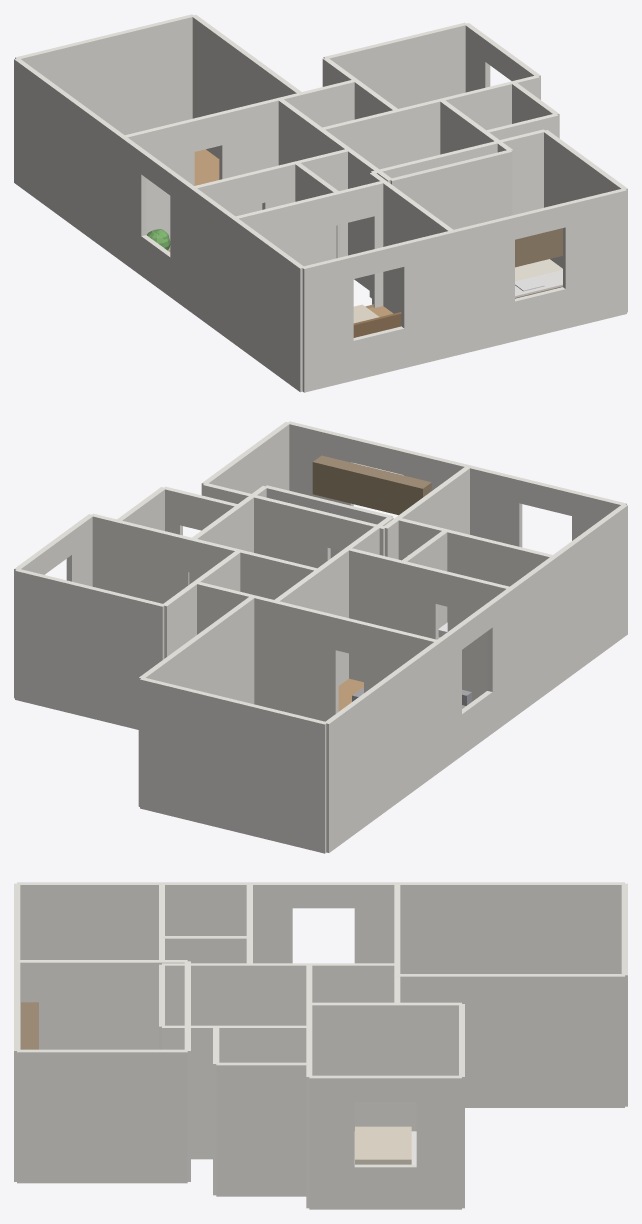
File: test-nowin.glb
3 views of the same model, one above another, from view 1: azimuth 30°, elevation 25°; view 2: azimuth 150°, elevation 25°; view 3: azimuth 270°, elevation 25° (orthographic). The views are drawn at different scales.
Visible parts, largest first — view 1: Wall_kitchen_front, Wall_bedroom_1_front, Wall_balcony_left, Wall_balcony_back, Wall_bedroom_1_left, Wall_living_room_left, Wall_bedroom_2_back, Wall_bedroom_1_back, Wall_balcony_front, Wall_stairs_front, Wall_balcony_right, Wall_bathroom_1_left (+26 smaller); view 2: Wall_balcony_back, Wall_bedroom_2_back, Wall_balcony_left, Wall_living_room_back, Wall_bedroom_1_left, Wall_balcony_front, Wall_living_room_left, Wall_bedroom_2_front, Wall_living_room_front, Wall_balcony_right, Wall_bedroom_1_front, Wall_kitchen_back (+22 smaller); view 3: Wall_balcony_right, Wall_kitchen_right, Wall_balcony_left, Wall_bedroom_2_right, Wall_bathroom_2_right, Wall_kitchen_left, Wall_bedroom_1_left, Wall_living_room_left, Wall_bedroom_2_left, Wall_hallway_right, Wall_stairs_right, Wall_living_room_right (+16 smaller).
Part boxes in pixels (left/top/right/bottom): Wall_kitchen_front: left=452, top=188, right=626, bottom=355; Wall_bedroom_1_front: left=302, top=231, right=453, bottom=392; Wall_balcony_left: left=14, top=58, right=124, bottom=260; Wall_balcony_back: left=15, top=14, right=194, bottom=134; Wall_bedroom_1_left: left=232, top=217, right=303, bottom=392; Wall_living_room_left: left=121, top=136, right=194, bottom=311; Wall_bedroom_2_back: left=323, top=22, right=467, bottom=108; Wall_bedroom_1_back: left=233, top=180, right=384, bottom=307; Wall_balcony_front: left=123, top=95, right=302, bottom=249; Wall_stairs_front: left=390, top=150, right=512, bottom=229; Wall_balcony_right: left=192, top=15, right=301, bottom=158; Wall_bathroom_1_left: left=190, top=187, right=235, bottom=341; Wall_balcony_back: left=140, top=678, right=326, bottom=853; Wall_bedroom_2_back: left=15, top=569, right=165, bottom=729; Wall_balcony_left: left=324, top=641, right=440, bottom=852; Wall_living_room_back: left=273, top=600, right=439, bottom=721; Wall_bedroom_1_left: left=553, top=504, right=627, bottom=686; Wall_balcony_front: left=252, top=596, right=435, bottom=720; Wall_living_room_left: left=437, top=588, right=513, bottom=770; Wall_bedroom_2_front: left=92, top=513, right=240, bottom=603; Wall_living_room_front: left=349, top=548, right=510, bottom=701; Wall_balcony_right: left=138, top=596, right=254, bottom=806; Wall_bedroom_1_front: left=468, top=465, right=626, bottom=547; Wall_kitchen_back: left=202, top=483, right=386, bottom=568; Wall_balcony_right: left=397, top=974, right=624, bottom=1107; Wall_kitchen_right: left=17, top=1049, right=187, bottom=1183; Wall_balcony_left: left=397, top=882, right=624, bottom=973; Wall_bedroom_2_right: left=309, top=1075, right=461, bottom=1209; Wall_bathroom_2_right: left=216, top=1062, right=309, bottom=1196; Wall_kitchen_left: left=17, top=960, right=187, bottom=1049; Wall_bedroom_1_left: left=17, top=882, right=161, bottom=959; Wall_living_room_left: left=250, top=882, right=397, bottom=963; Wall_bedroom_2_left: left=312, top=1002, right=461, bottom=1131; Wall_hallway_right: left=312, top=1002, right=397, bottom=1130; Wall_stairs_right: left=162, top=1025, right=309, bottom=1159; Wall_living_room_right: left=250, top=963, right=394, bottom=1025.
Bounding box in the file's own units: 8.97 × 2.8 × 11.87.
